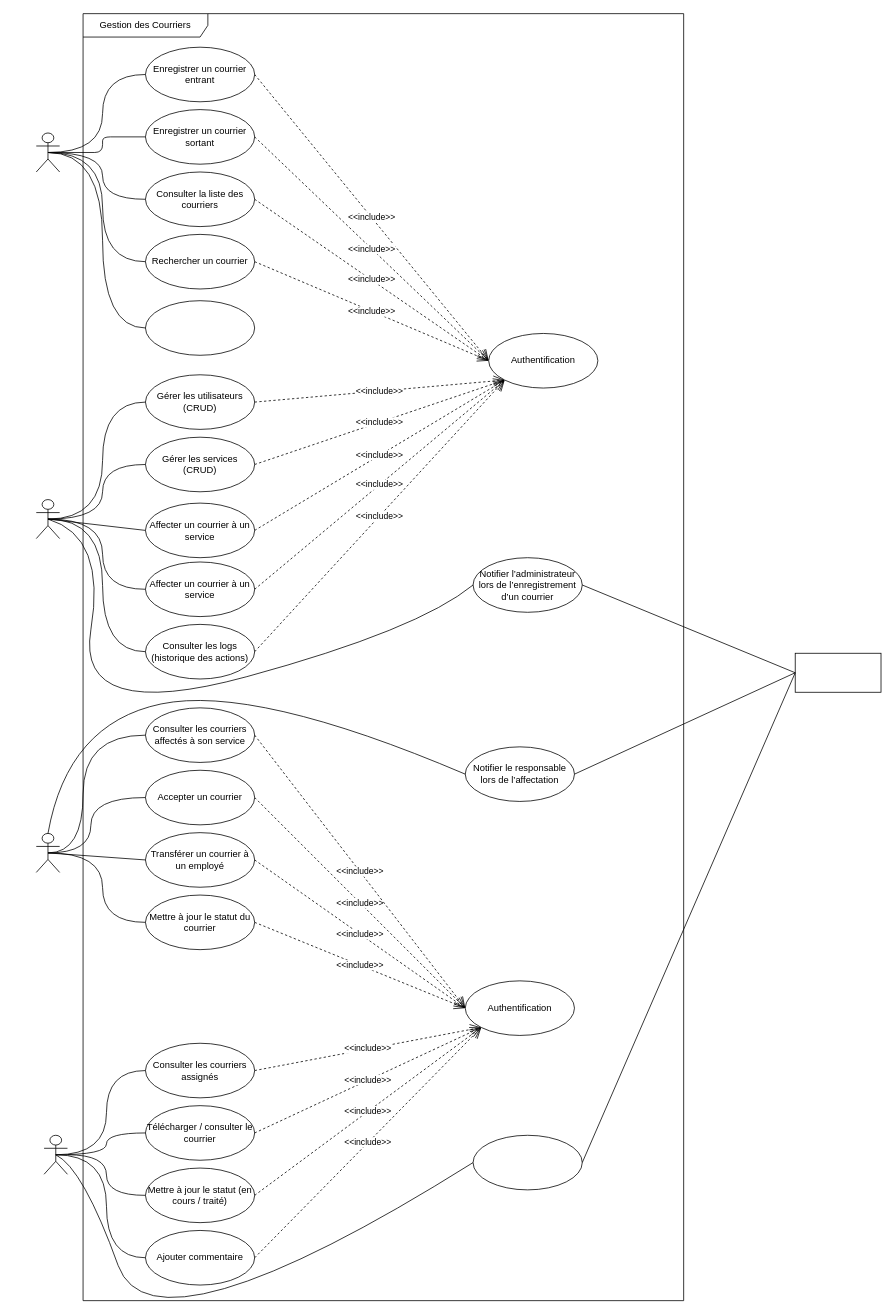
Image size: 895x1314. Some labels were removed from this diagram. The shapes that lost their labels are listed below. From the top down, each one's box as (x1, y1, x2, y2) in pixels, then its label:
(35, 132, 60, 172): Secrétaire
(145, 300, 255, 355): Se Deconnecter
(35, 499, 60, 539): Administrateur
(794, 652, 881, 692): Notifications (Système)
(35, 833, 60, 872): Responsable SV
(43, 1135, 67, 1174): Employé
(472, 1135, 582, 1190): Notifier l’employé lors du transfert
